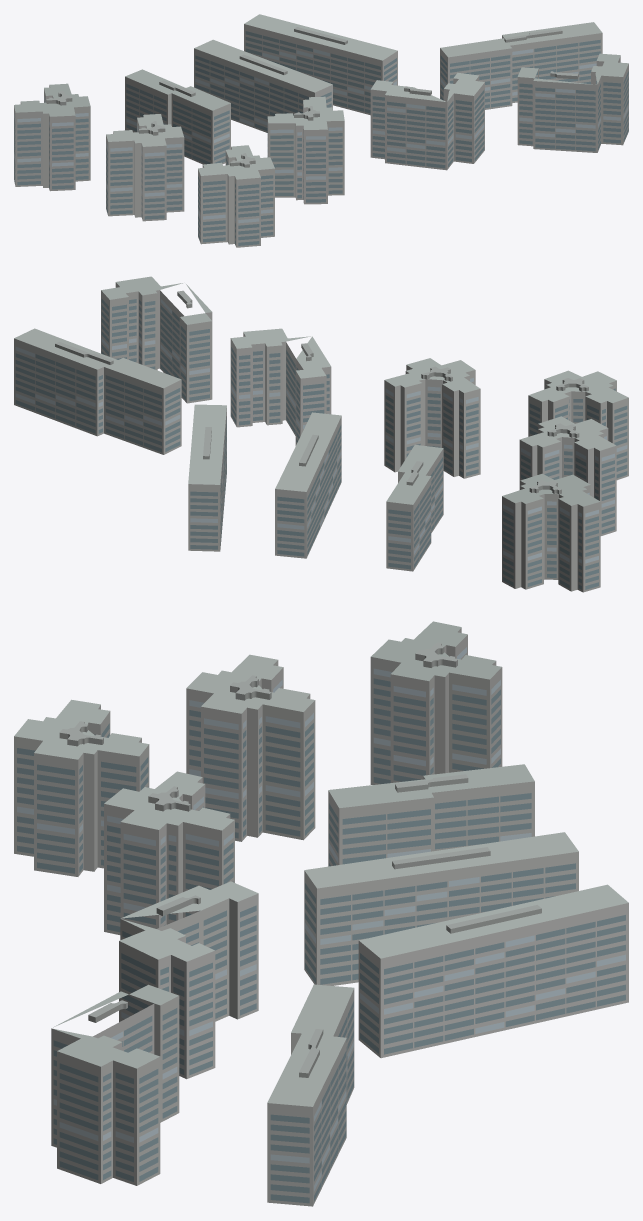
The model's file is apt-a15728005.glb.
The picture shows the model from 3 angles, top to bottom: view 1: azimuth 30°, elevation 25°; view 2: azimuth 150°, elevation 25°; view 3: azimuth 270°, elevation 25°; orthographic projection. The views are drawn at different scales.
Parts seen in each view (by area): view 1: apt-a15728005; view 2: apt-a15728005; view 3: apt-a15728005.
Part boxes in pixels (box(x1,y1,x2,y2)): apt-a15728005: box(14, 14, 628, 247); apt-a15728005: box(14, 276, 628, 592); apt-a15728005: box(14, 621, 628, 1206).
Bounding box in the file's own units: 263 × 36 × 150.
